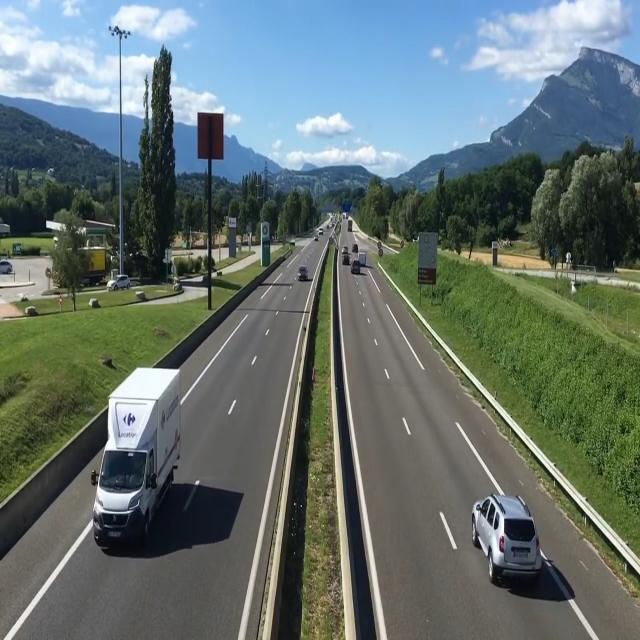car: (86, 395, 162, 551), (474, 492, 541, 590)
